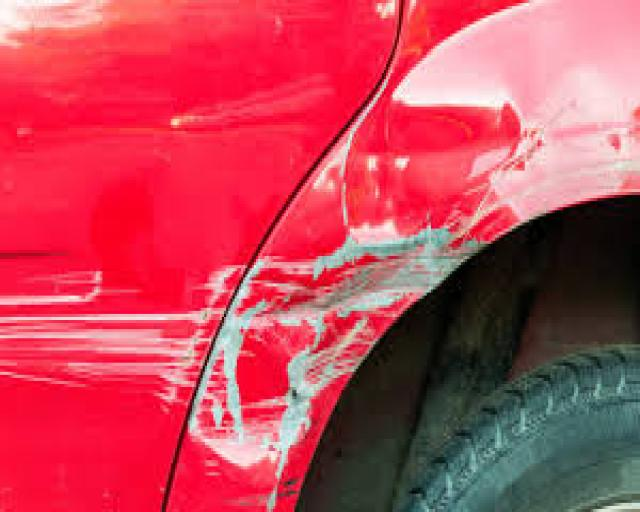scratch: (0, 50, 551, 509)
